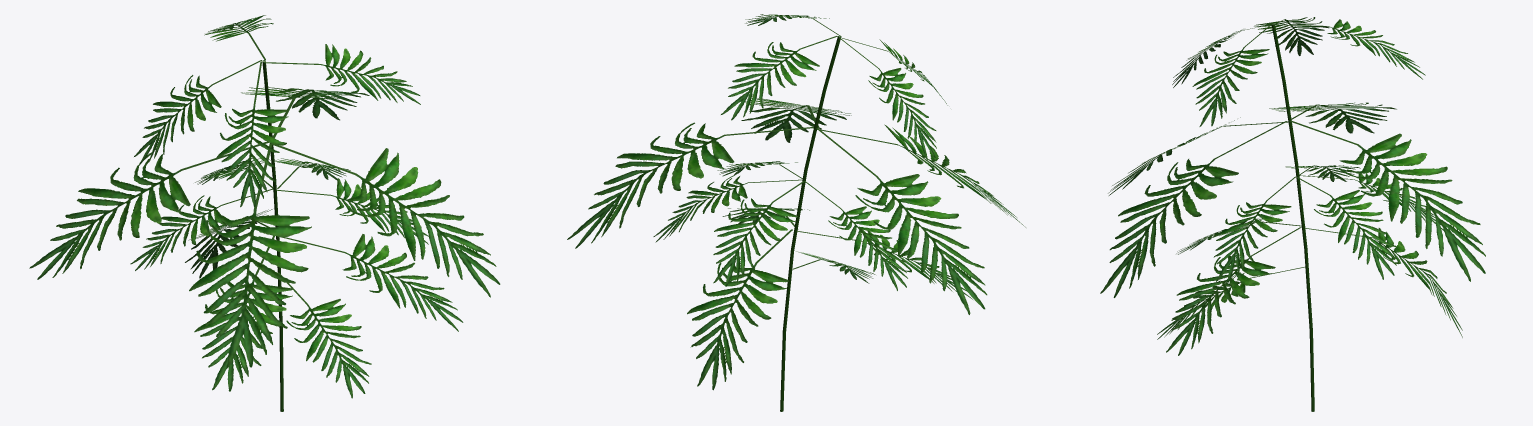
Rendered from LVL_RIV_LONGLEAF.fbx.
3 views of the same model, side by side, from view 1: azimuth 30°, elevation 25°; view 2: azimuth 150°, elevation 25°; view 3: azimuth 270°, elevation 25° (orthographic).
Visible parts, largest first — view 1: LVL_RIV_LONGLEAF; view 2: LVL_RIV_LONGLEAF; view 3: LVL_RIV_LONGLEAF.
Boxes of the visible parts, left/top/right/bottom form: LVL_RIV_LONGLEAF: left=29, top=15, right=500, bottom=411; LVL_RIV_LONGLEAF: left=567, top=14, right=1025, bottom=411; LVL_RIV_LONGLEAF: left=1100, top=17, right=1485, bottom=411.
Size of the model in its own units: 26133 by 23638 by 25258.
2 materials, 2 textured.
